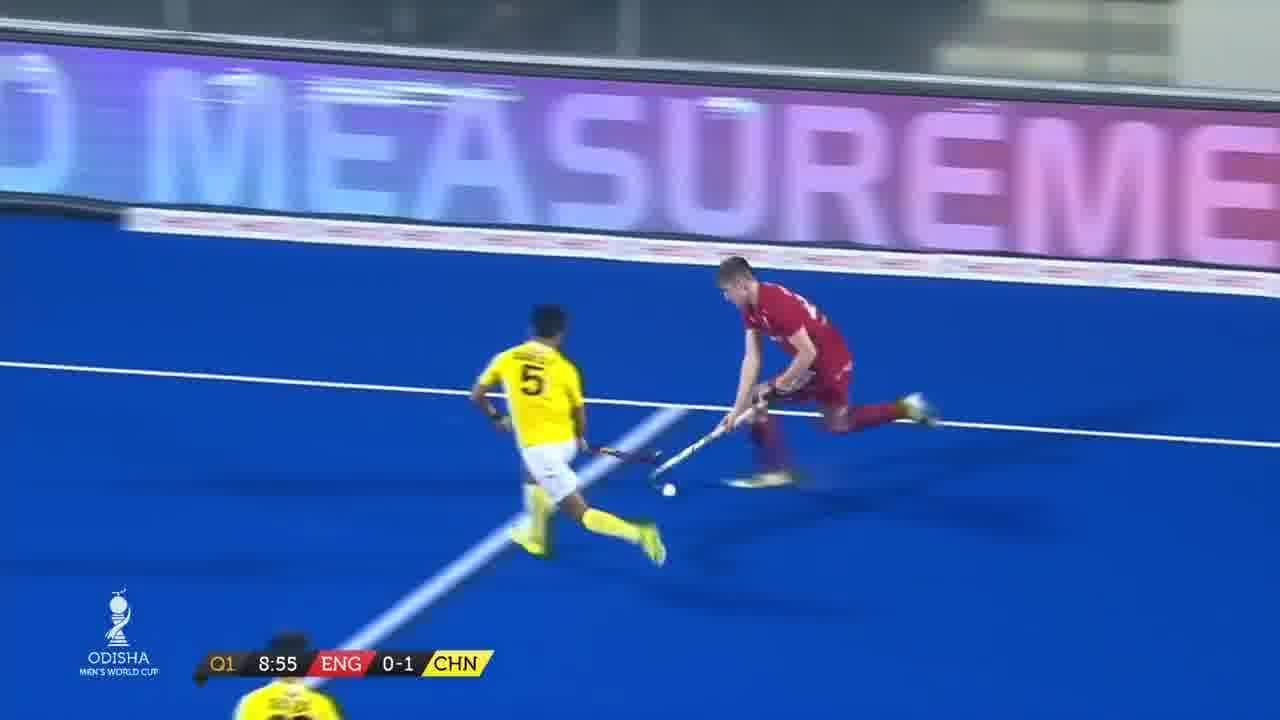ball: (658, 465, 682, 502)
